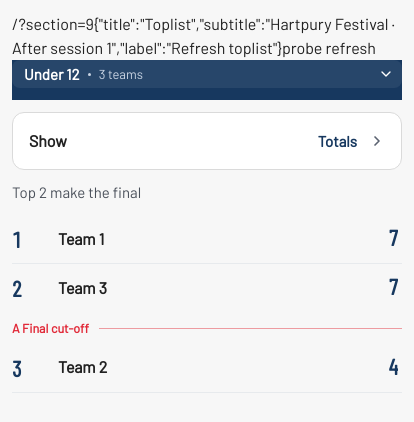
the Show row inside Toplist › offers Totals, By session and Scores by heat without finals, opens on Totals, and Scores by heat shows the heat tables
Expected: the element named "Totals" is shown, top-left (12, 215), bottom-right (402, 392)
Click the dropdown labelled "Show" at (48, 140), box top-left (13, 113), bottom-right (401, 169)
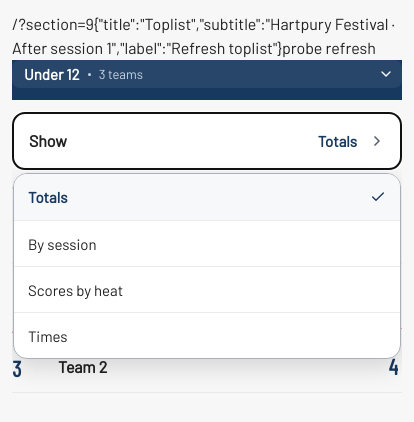
Expected: the options read "Totals", "By session", "Scores by heat", "Times", in this order
Click the option "Scores by heat" at (76, 290), box top-left (14, 266), bottom-right (400, 312)
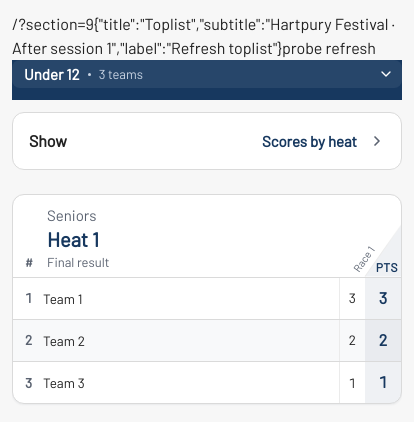
Expected: the element named "Section heat scores" is shown, top-left (12, 182), bottom-right (402, 404)
